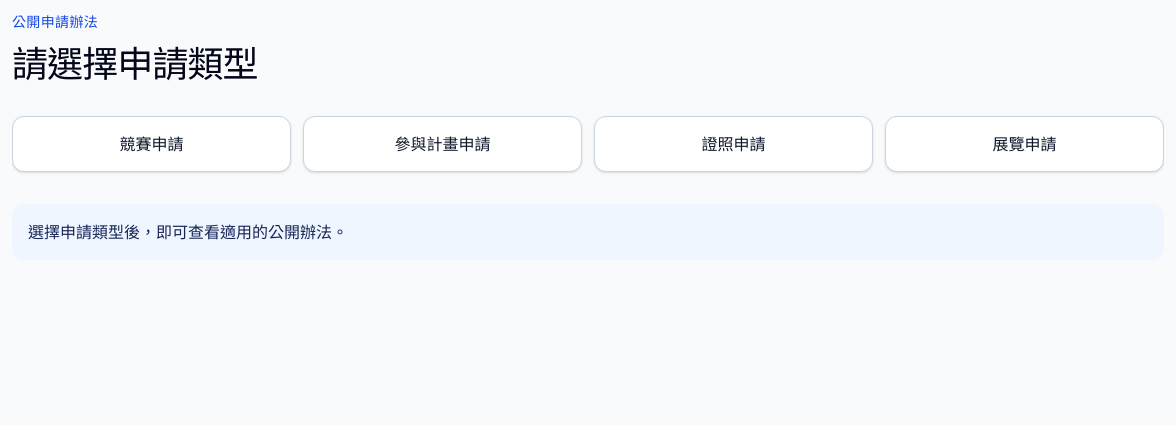
Test: PublishedInstructionsPage › shows loading while a request is pending
Click the button "展覽申請". click: click(1024, 144)
box: [885,116,1164,172]
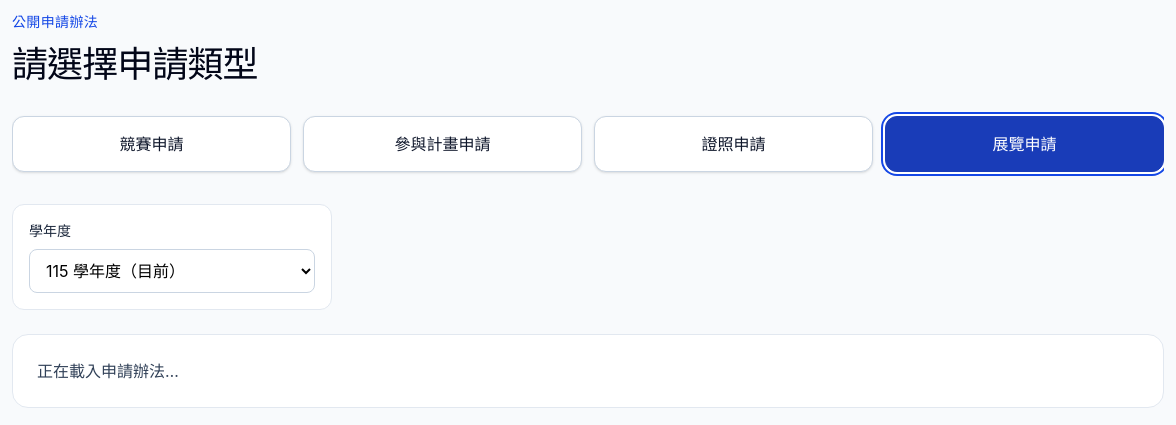
Result: the message shows "正在載入申請辦法" at [37,361,179,381]
